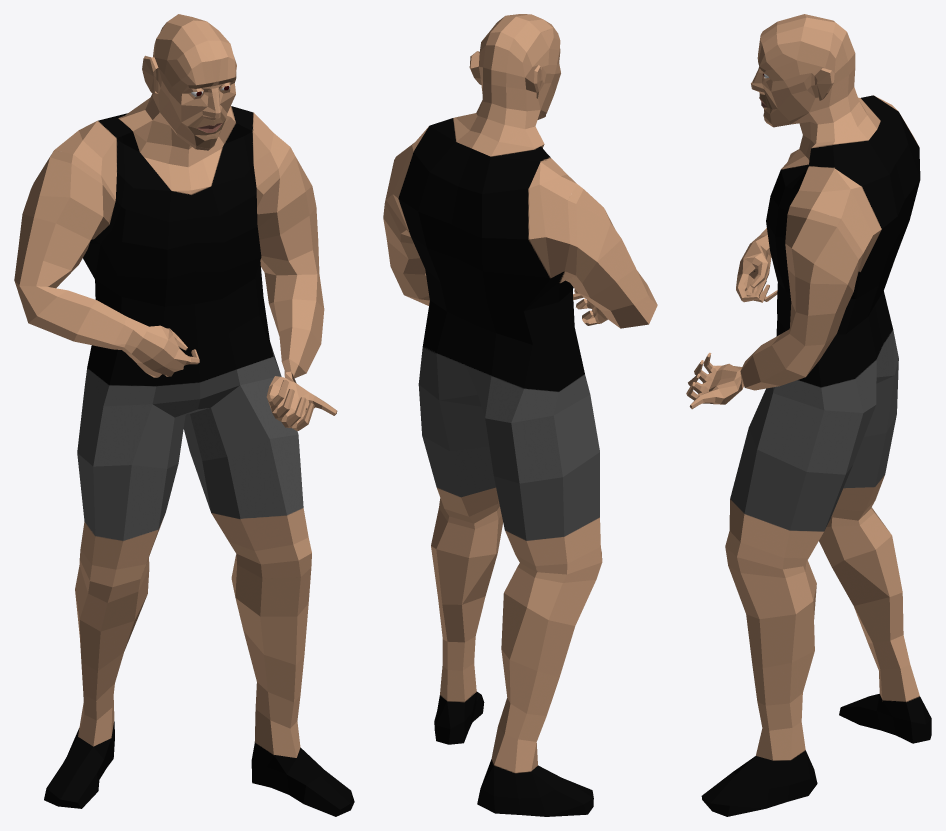
File: PlayerIdle(207).obj
3 views of the same model, side by side, from view 1: azimuth 30°, elevation 25°; view 2: azimuth 150°, elevation 25°; view 3: azimuth 270°, elevation 25° (orthographic). The views are drawn at different scales.
Visible parts, largest first — view 1: Plane002; view 2: Plane002; view 3: Plane002.
Part boxes in pixels (bbox=[...]): Plane002: bbox=[14, 14, 354, 816]; Plane002: bbox=[383, 14, 657, 816]; Plane002: bbox=[686, 14, 931, 816].
Bounding box in the file's own units: 680 × 1797 × 538.
